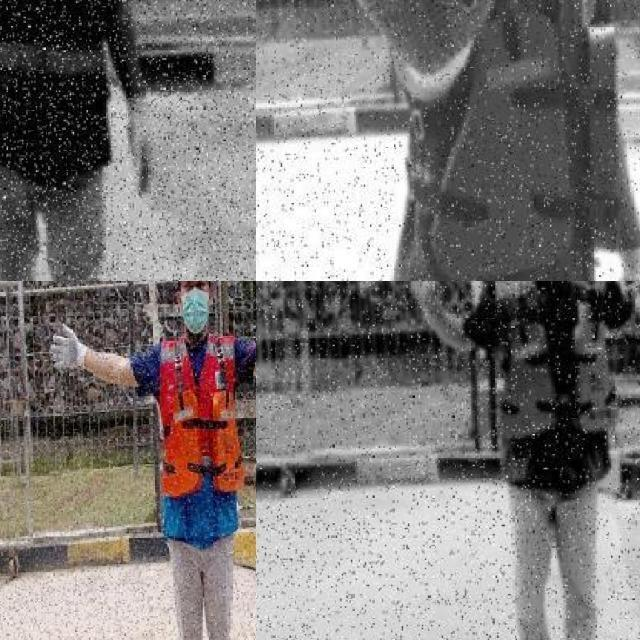apron: (320, 0, 503, 109), (118, 92, 164, 194), (46, 320, 89, 378)
